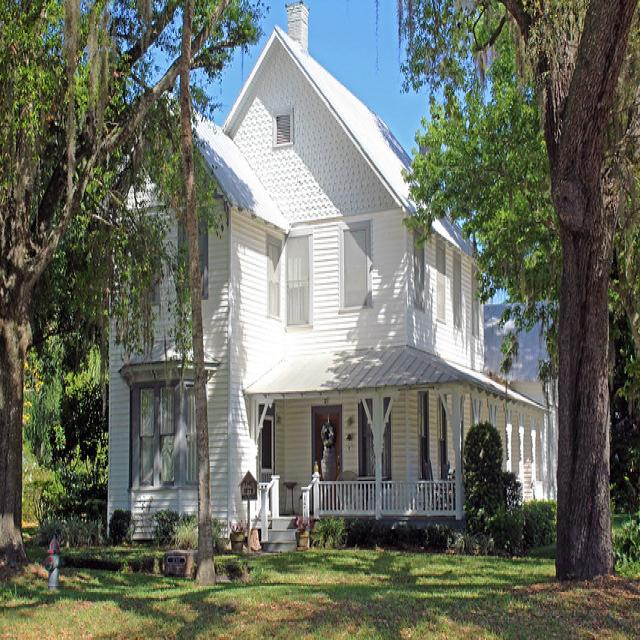building: (102, 3, 564, 561)
